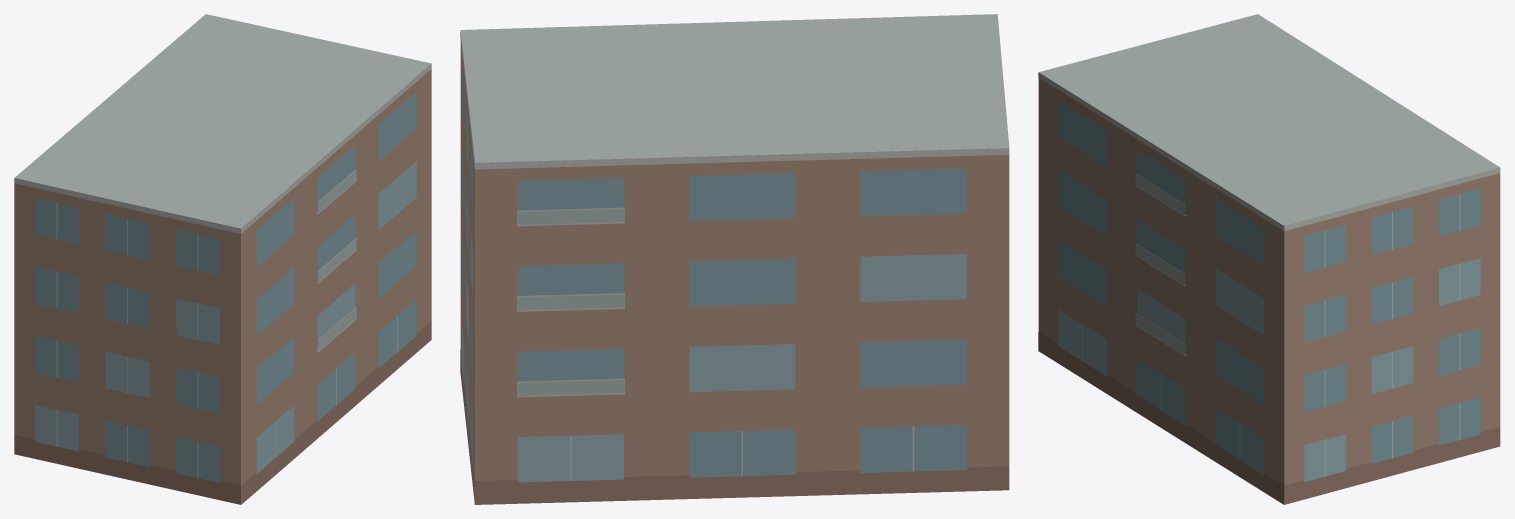
File: survey-upis-32833178.glb
3 views of the same model, side by side, from view 1: azimuth 30°, elevation 25°; view 2: azimuth 150°, elevation 25°; view 3: azimuth 270°, elevation 25° (orthographic). The views are drawn at different scales.
Visible parts, largest first — view 1: survey-upis-32833178.tmp; view 2: survey-upis-32833178.tmp; view 3: survey-upis-32833178.tmp.
Part boxes in pixels (x1,y1,x2,y2): survey-upis-32833178.tmp: [14, 14, 431, 504]; survey-upis-32833178.tmp: [460, 14, 1009, 504]; survey-upis-32833178.tmp: [1038, 14, 1500, 504].
Size of the model in its own units: 20.63 by 12.65 by 19.
